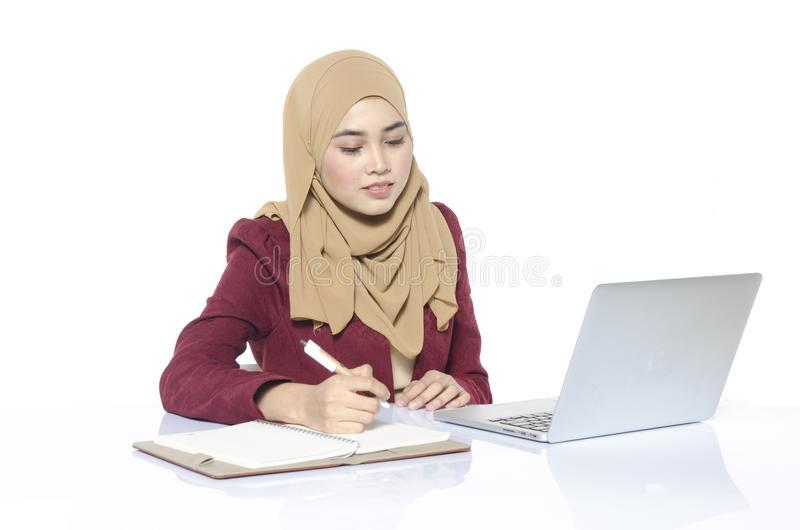No Mask: (303, 92, 455, 257)
